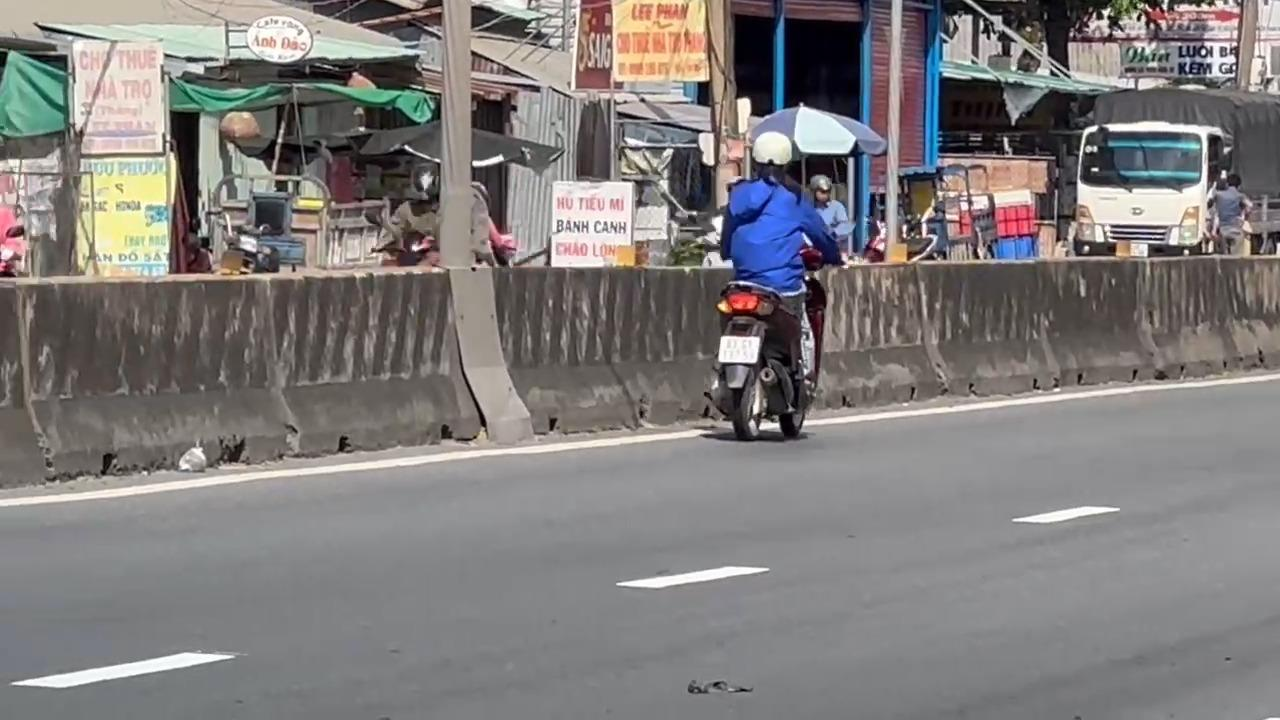bien_so: (717, 334, 760, 364)
